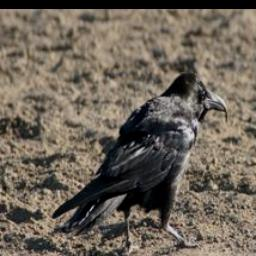Crow: (49, 68, 228, 256)
